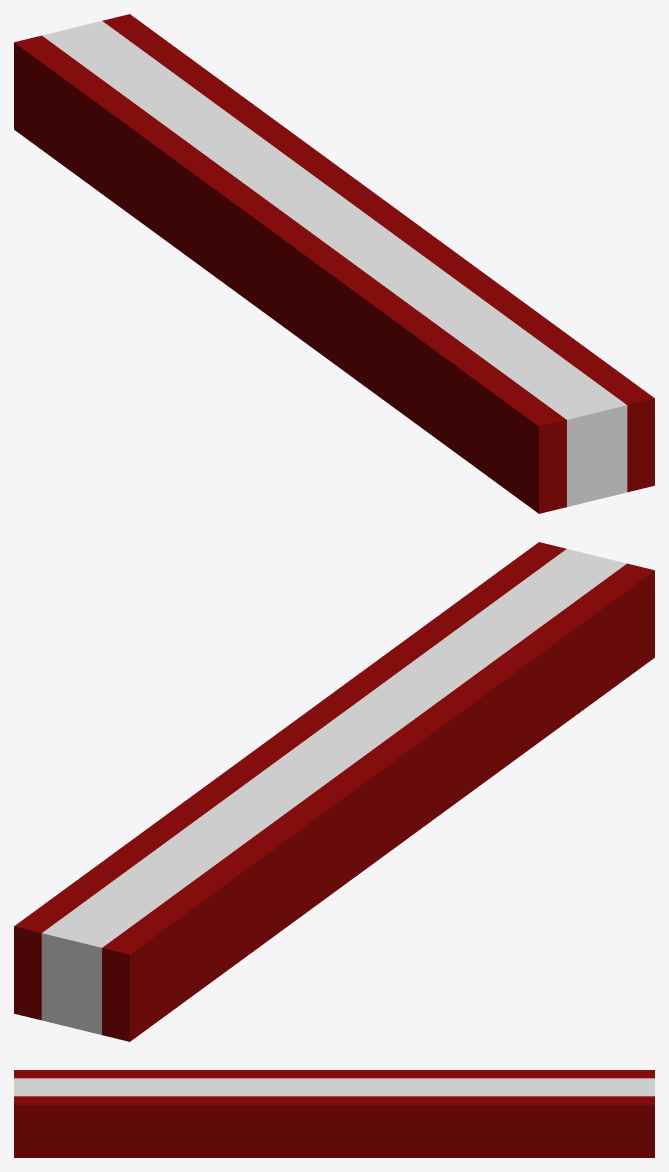
3 views of the same model, one above another, from view 1: azimuth 30°, elevation 25°; view 2: azimuth 150°, elevation 25°; view 3: azimuth 270°, elevation 25° (orthographic). The views are drawn at different scales.
Parts seen in each view (by area): view 1: pPlane2; view 2: pPlane2; view 3: pPlane2.
Boxes of the visible parts, x1,y1,x2,y2 form: pPlane2: [14, 14, 654, 513]; pPlane2: [14, 542, 654, 1041]; pPlane2: [14, 1070, 654, 1157].
Size of the model in its own units: 0.3784 by 0.2723 by 2.97.
